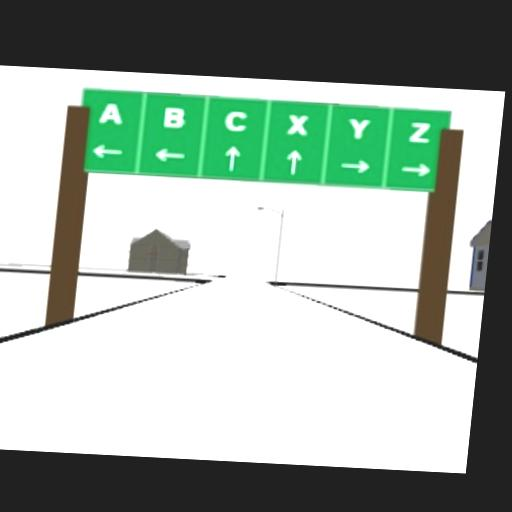A: (96, 101, 128, 128)
B: (163, 106, 187, 130)
C: (224, 110, 248, 134)
Left: (153, 147, 187, 164), (92, 144, 124, 161)
Right: (400, 160, 432, 181), (338, 157, 371, 175)
Straight: (222, 145, 242, 173), (284, 149, 304, 177)
X: (285, 113, 309, 137)
Y: (347, 117, 371, 140)
Z: (409, 121, 432, 145)
